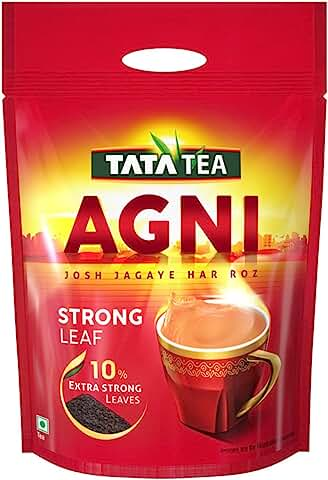veg: (32, 410, 56, 448)
